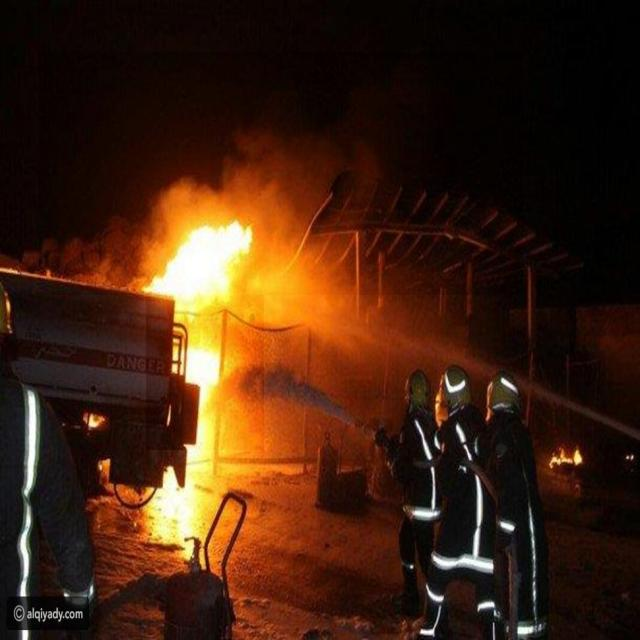Fire: (146, 217, 264, 450)
Smoke: (39, 52, 523, 295)
